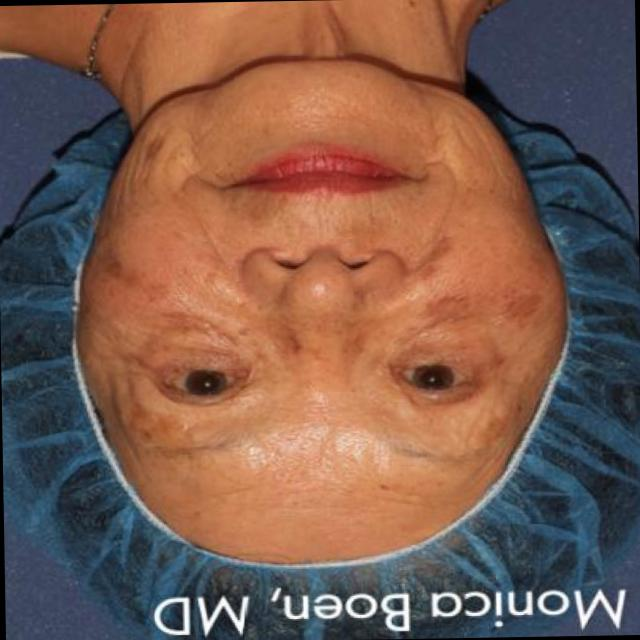melasma: (79, 191, 300, 352), (347, 209, 555, 359)
